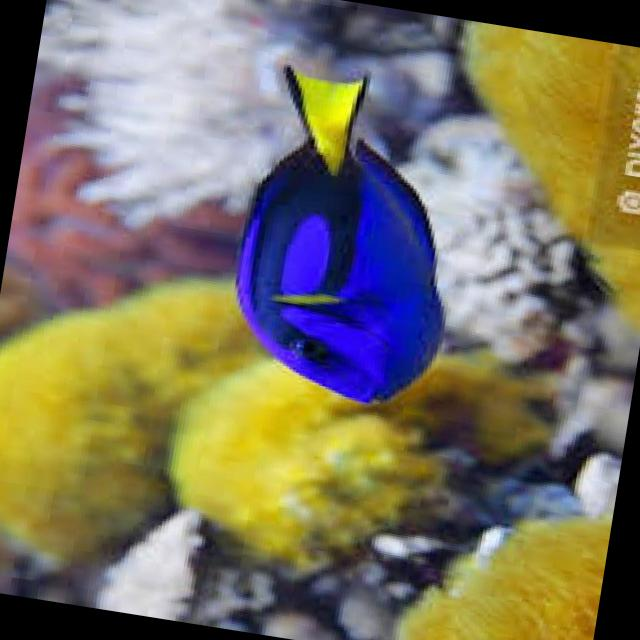BlueTang: (184, 39, 494, 424)
